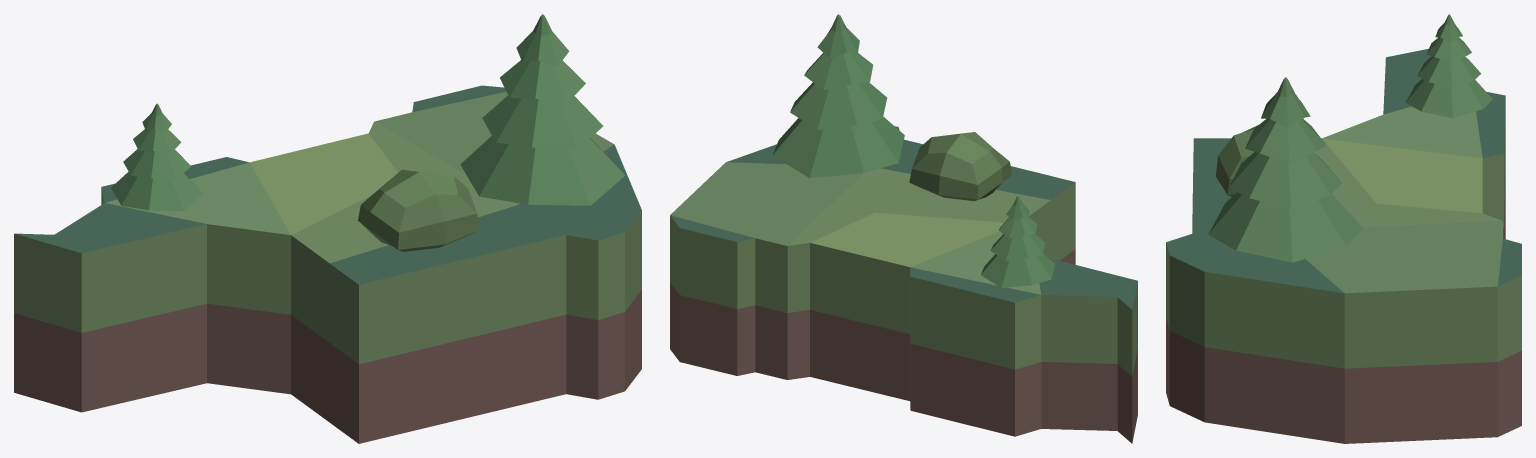
Rendered from yakutsk.gltf.
3 renders of one model, left to right at view 1: azimuth 30°, elevation 25°; view 2: azimuth 150°, elevation 25°; view 3: azimuth 270°, elevation 25°, orthographic. The views are drawn at different scales.
Parts seen in each view (by area): view 1: якутск; view 2: якутск; view 3: якутск.
Boxes of the visible parts, x1=… form: якутск: x1=14, y1=14, x2=641, y2=443; якутск: x1=670, y1=14, x2=1137, y2=443; якутск: x1=1166, y1=14, x2=1521, y2=443.
Size of the model in its own units: 0.5563 by 0.3313 by 0.3344.
